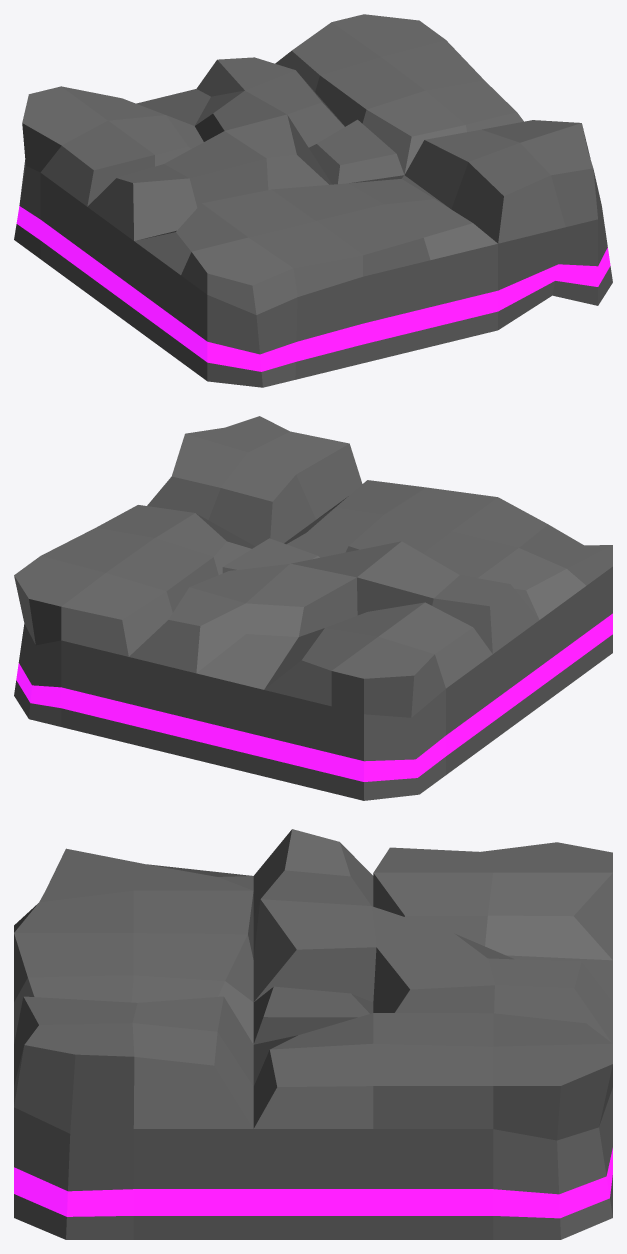
File: rock.fbx
3 renders of one model, top to bottom at view 1: azimuth 30°, elevation 25°; view 2: azimuth 150°, elevation 25°; view 3: azimuth 270°, elevation 25°, orthographic. The views are drawn at different scales.
Visible parts, largest first — view 1: 큐브; view 2: 큐브; view 3: 큐브.
Boxes of the visible parts, left/top/right/bottom form: 큐브: left=14, top=14, right=612, bottom=387; 큐브: left=14, top=416, right=612, bottom=800; 큐브: left=14, top=829, right=612, bottom=1239.
Size of the model in its own units: 512 by 170 by 512.
